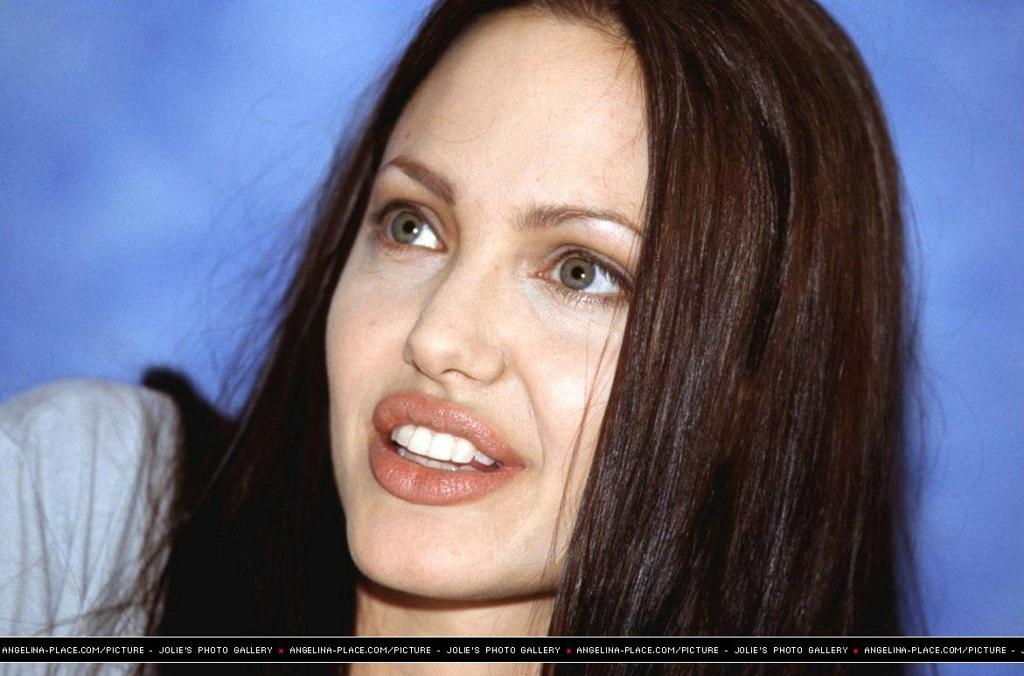face: (323, 13, 737, 603)
